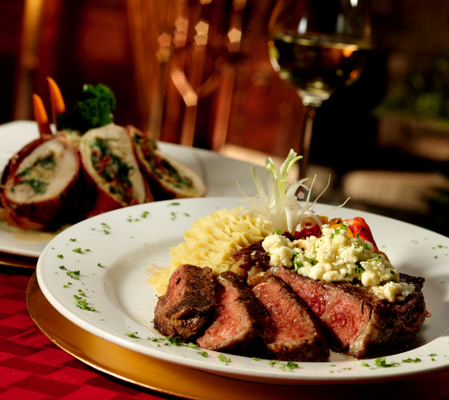curry: (73, 82, 117, 130)
